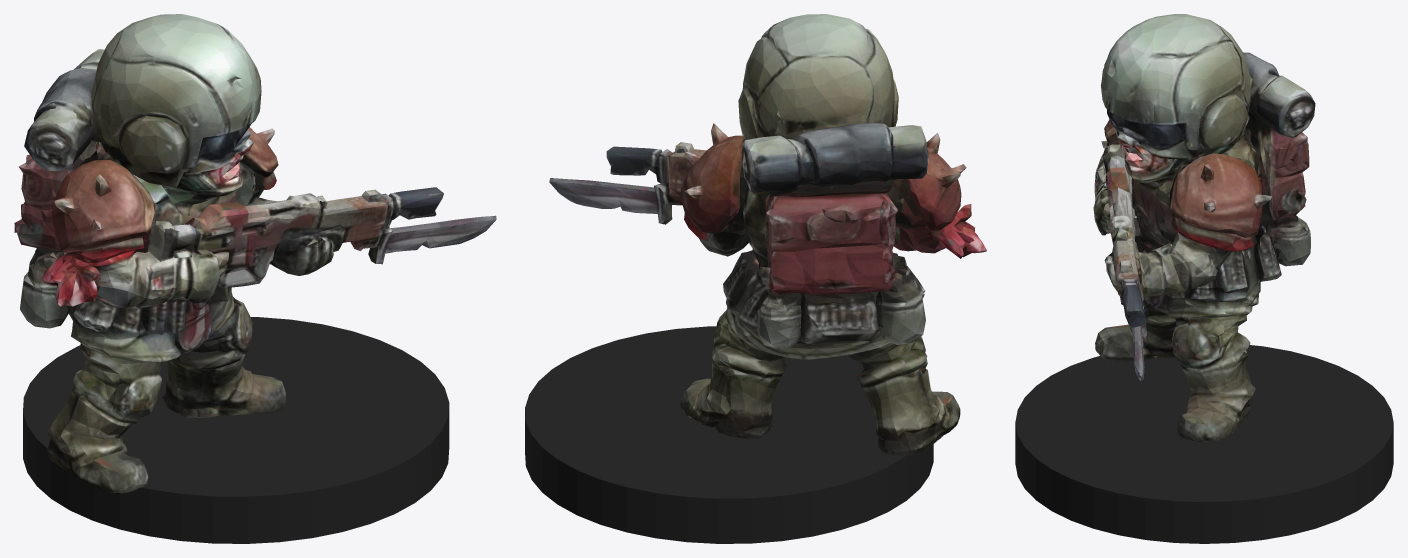
The model's file is bl-trooper-b.glb.
The picture shows the model from 3 angles, left to right: view 1: azimuth 30°, elevation 25°; view 2: azimuth 150°, elevation 25°; view 3: azimuth 270°, elevation 25°; orthographic projection. The views are drawn at different scales.
Parts seen in each view (by area): view 1: figure, base; view 2: figure, base; view 3: figure, base.
Part boxes in pixels (<box>): figure: <box>14,14,496,493</box>; base: <box>23,317,449,543</box>; figure: <box>549,14,986,455</box>; base: <box>525,326,933,543</box>; figure: <box>1093,14,1315,442</box>; base: <box>1015,345,1393,543</box>.
Bounding box in the file's own units: 1.19 × 1.17 × 0.9843.
2 materials, 1 textured.
